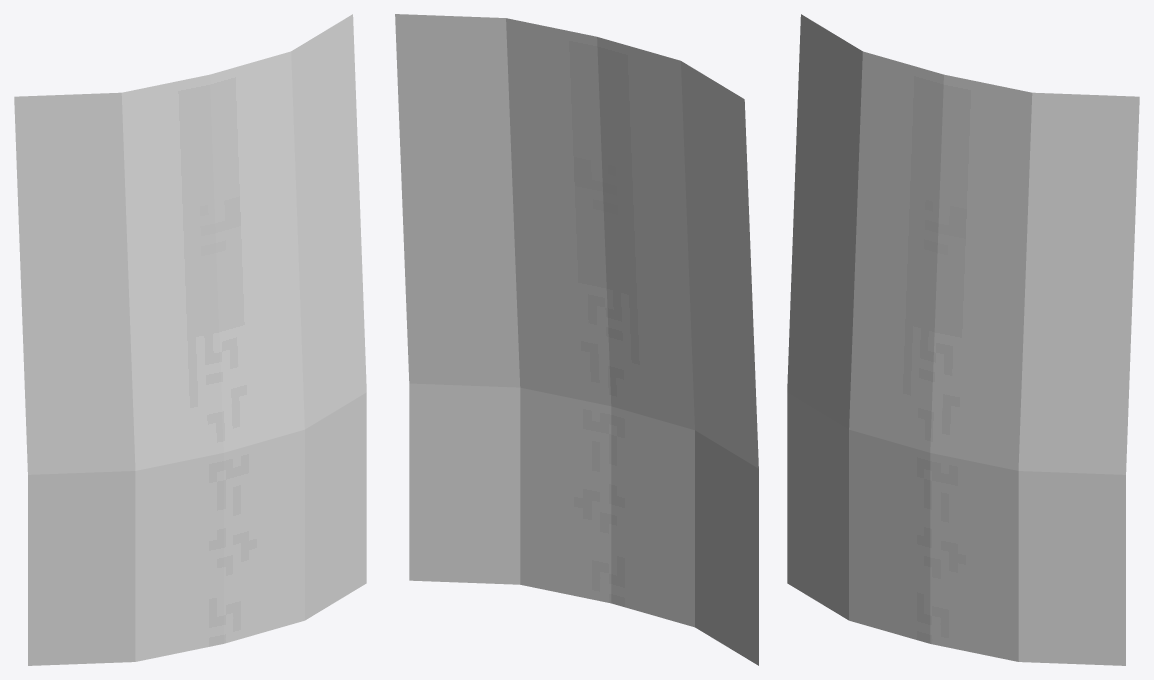
File: cloak_trimmed_decor.obj
3 views of the same model, side by side, from view 1: azimuth 30°, elevation 25°; view 2: azimuth 150°, elevation 25°; view 3: azimuth 330°, elevation 25° (orthographic). The views are drawn at different scales.
Visible parts, largest first — view 1: OutsideDecorMesh_Plane.002; view 2: OutsideDecorMesh_Plane.002; view 3: OutsideDecorMesh_Plane.002.
Boxes of the visible parts, x1=… form: OutsideDecorMesh_Plane.002: x1=14, y1=14, x2=366, y2=665; OutsideDecorMesh_Plane.002: x1=395, y1=14, x2=758, y2=665; OutsideDecorMesh_Plane.002: x1=787, y1=14, x2=1139, y2=665.
Size of the model in its own units: 2 by 3.15 by 0.4098.
